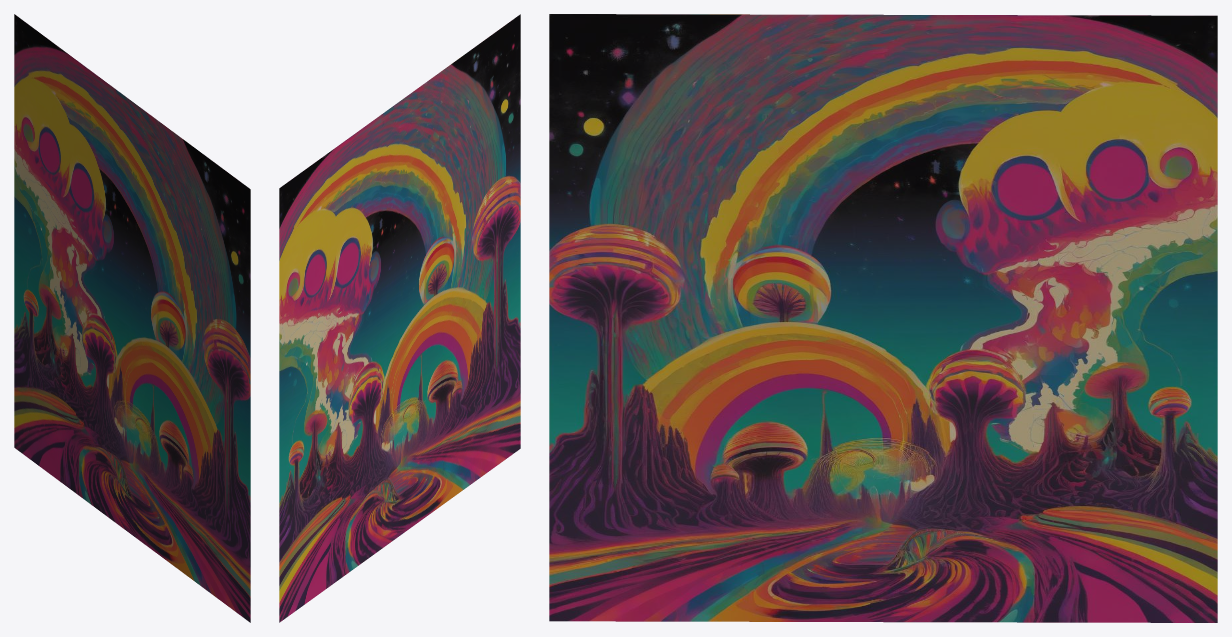
File: image01.glb
3 renders of one model, left to right at view 1: azimuth 30°, elevation 25°; view 2: azimuth 150°, elevation 25°; view 3: azimuth 270°, elevation 25°, orthographic. The views are drawn at different scales.
Visible parts, largest first — view 1: image01; view 2: image01; view 3: image01.
Boxes of the visible parts, x1=… form: image01: x1=14, y1=14, x2=250, y2=622; image01: x1=279, y1=14, x2=520, y2=622; image01: x1=549, y1=14, x2=1217, y2=622.
Size of the model in its own units: 0.0132 by 2.25 by 2.25.
Materials: 1 (1 with a texture image).
